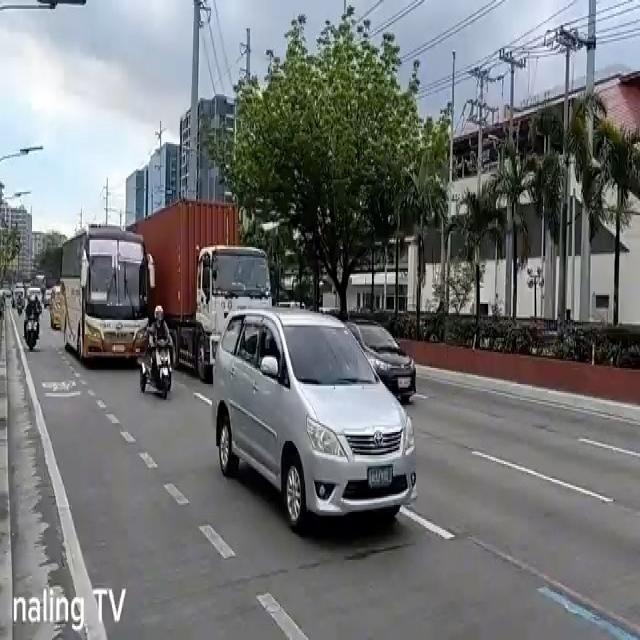bus: (60, 223, 150, 368)
car: (212, 308, 418, 528), (348, 318, 418, 404)
motorcycle: (148, 305, 172, 400), (24, 291, 43, 350)
truck: (124, 194, 276, 378)
